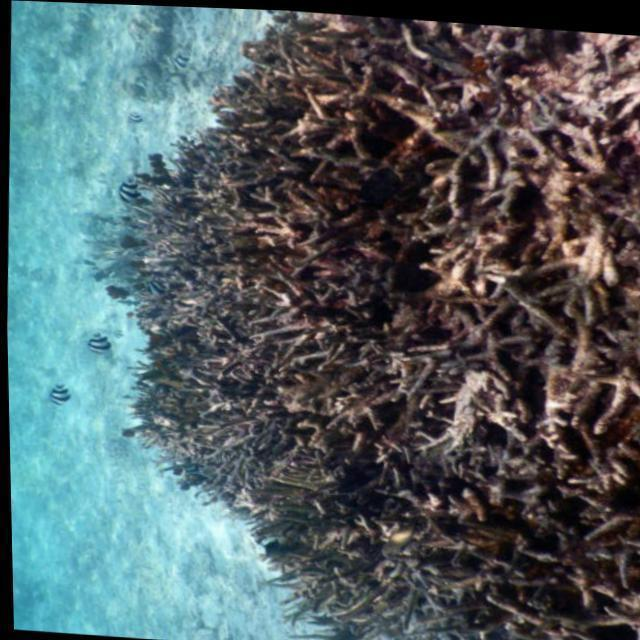Dead Coral: (85, 2, 640, 640)
